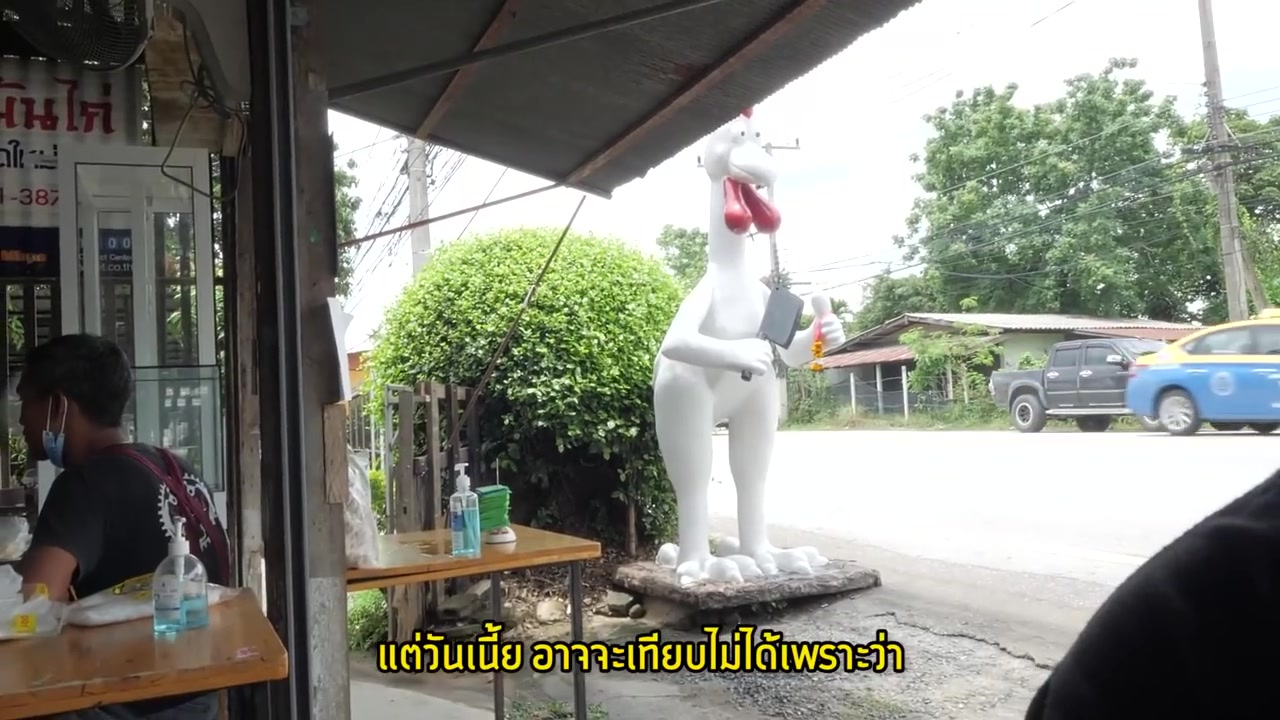text-label: (371, 617, 911, 676)
